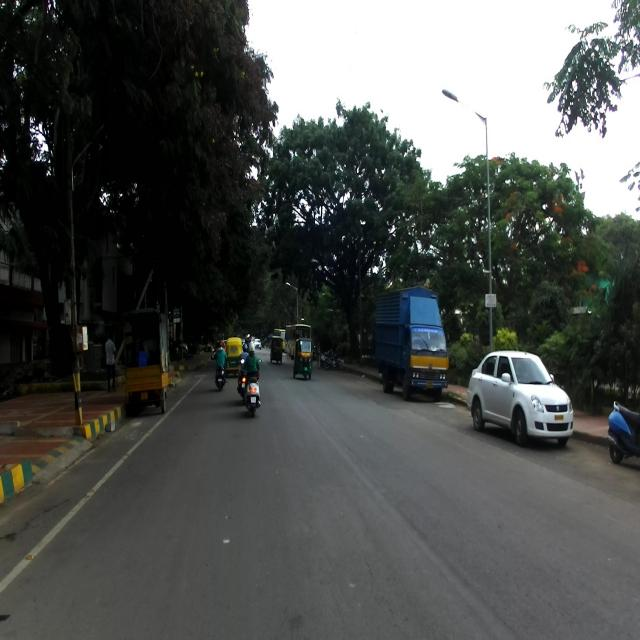autorickshaw: (292, 335, 313, 379)
car: (469, 347, 574, 449)
scooter: (245, 373, 262, 416)
truck: (374, 288, 450, 402)
